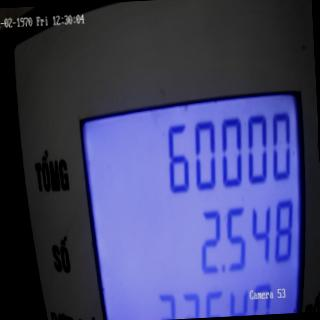screen: (70, 84, 318, 320)
